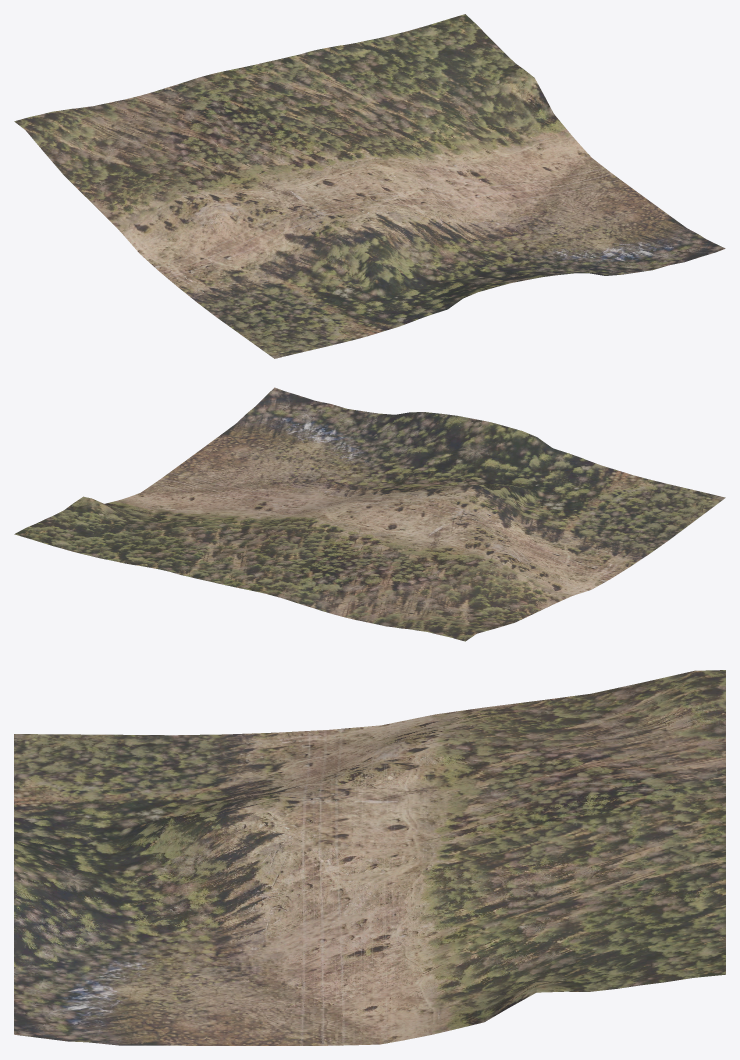
The model's file is CM_Terrain_24491073_6816517.fbx.
3 renders of one model, top to bottom at view 1: azimuth 30°, elevation 25°; view 2: azimuth 150°, elevation 25°; view 3: azimuth 270°, elevation 25°, orthographic. The views are drawn at different scales.
Visible parts, largest first — view 1: CM_Terrain_24491073_6816517_LOD0; view 2: CM_Terrain_24491073_6816517_LOD0; view 3: CM_Terrain_24491073_6816517_LOD0.
Boxes of the visible parts, box(x1,y1,x2,y2) form: CM_Terrain_24491073_6816517_LOD0: box(14, 14, 725, 358); CM_Terrain_24491073_6816517_LOD0: box(14, 387, 725, 641); CM_Terrain_24491073_6816517_LOD0: box(14, 670, 725, 1045).
Size of what is drawn, in the model's own units: 205 by 24.05 by 205.
